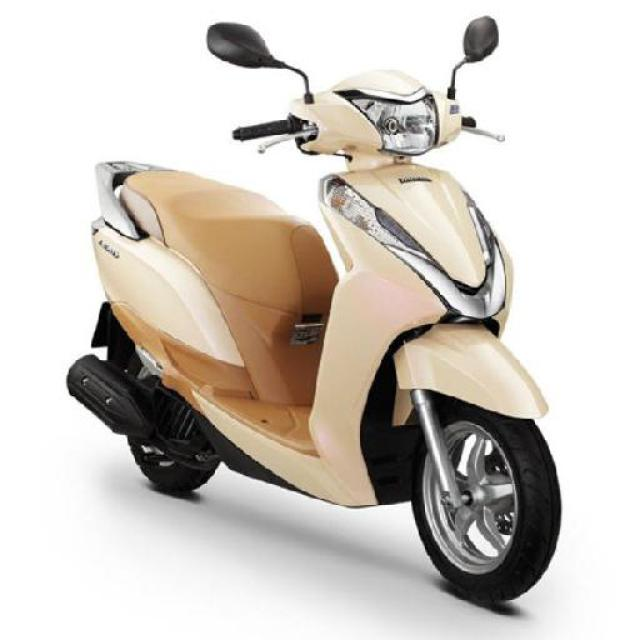All: (61, 13, 562, 605)
Head: (227, 67, 510, 169)
Tail: (82, 154, 176, 246)
